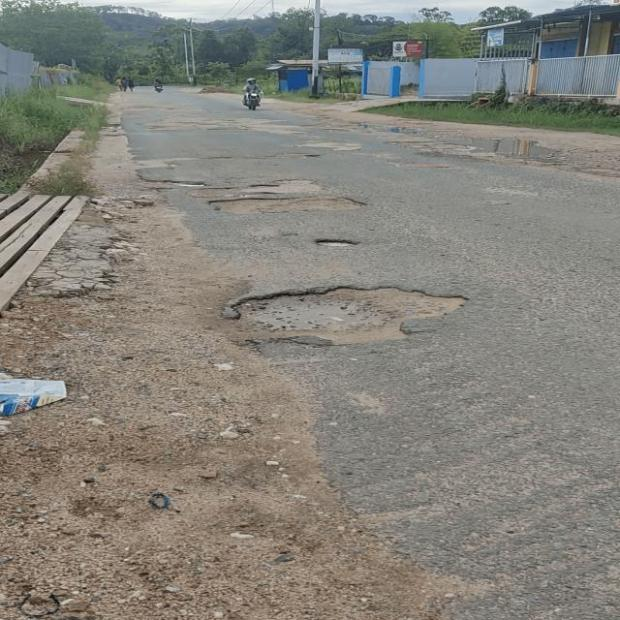lubang: (232, 287, 465, 346), (208, 198, 364, 213), (242, 180, 327, 190), (140, 176, 205, 187), (316, 239, 358, 246)
